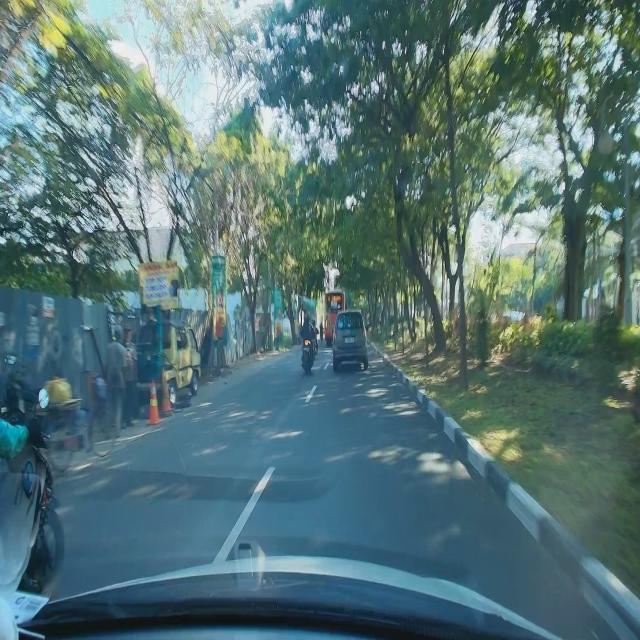car: (332, 305, 369, 375)
